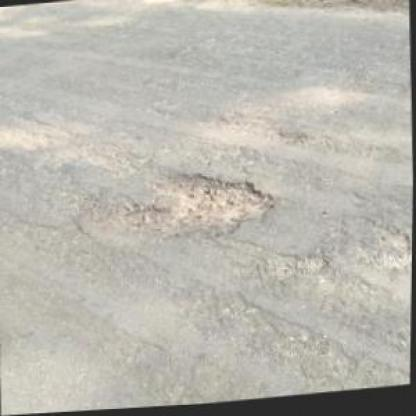pothole: (112, 164, 278, 250)
